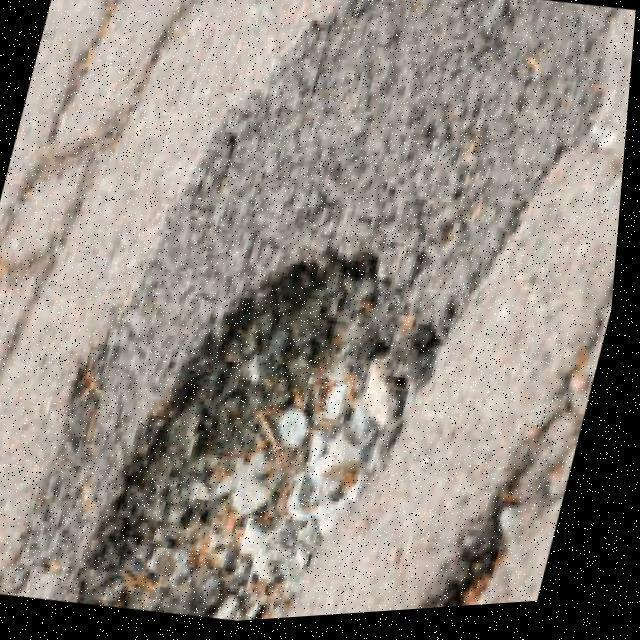Pothole: (78, 255, 448, 624)
